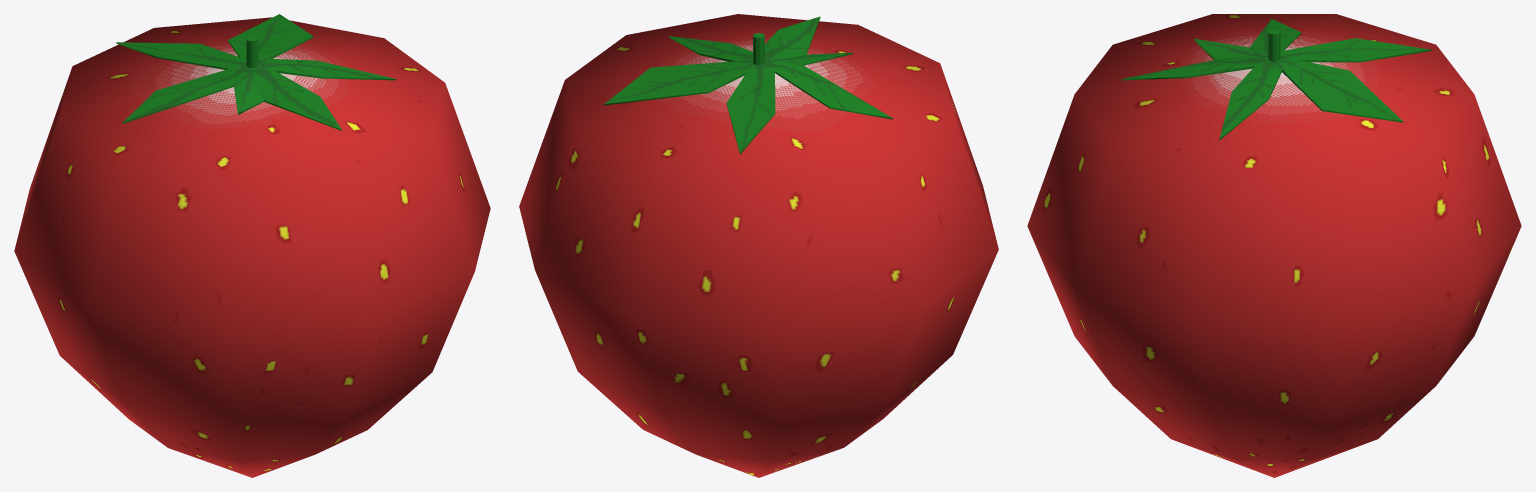
The model's file is strawberry.fbx.
3 views of the same model, side by side, from view 1: azimuth 30°, elevation 25°; view 2: azimuth 150°, elevation 25°; view 3: azimuth 270°, elevation 25° (orthographic).
Visible parts, largest first — view 1: pPlane12; view 2: pPlane12; view 3: pPlane12.
Boxes of the visible parts, x1,y1,x2,y2 form: pPlane12: [14, 14, 490, 477]; pPlane12: [519, 14, 998, 477]; pPlane12: [1027, 14, 1521, 477].
Bounding box in the file's own units: 1.32 × 1.38 × 1.39.
1 material, 1 textured.
